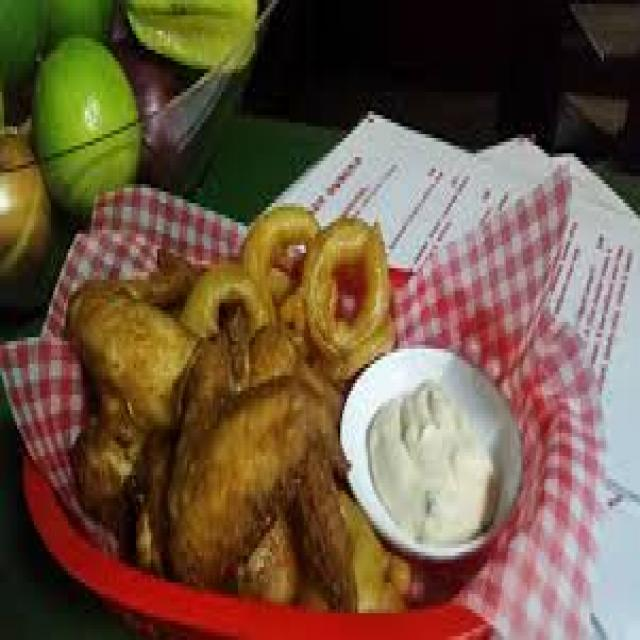Chicken Wings: (58, 226, 426, 613)
Onion Rings: (174, 180, 400, 368)
